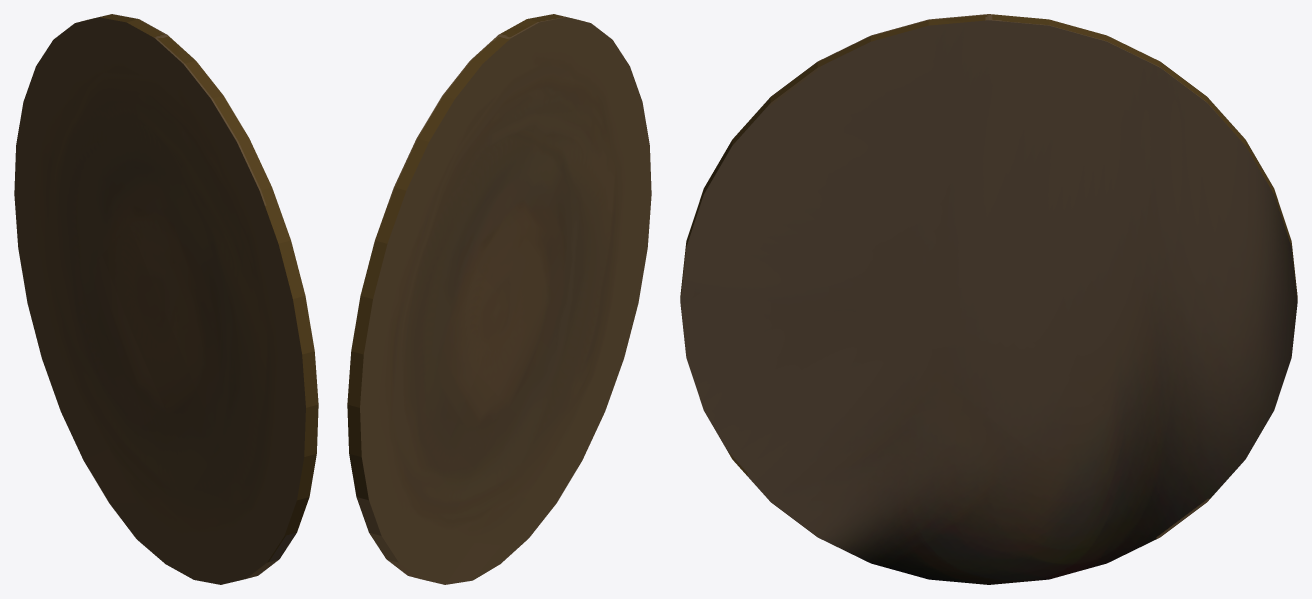
File: wheel.fbx
3 views of the same model, side by side, from view 1: azimuth 30°, elevation 25°; view 2: azimuth 150°, elevation 25°; view 3: azimuth 270°, elevation 25° (orthographic). The views are drawn at different scales.
Parts seen in each view (by area): view 1: Cylinder; view 2: Cylinder; view 3: Cylinder.
Boxes of the visible parts, x1,y1,x2,y2 form: Cylinder: (14, 14, 318, 584); Cylinder: (347, 14, 651, 584); Cylinder: (680, 14, 1297, 584).
Bounding box in the file's own units: 9.2 × 200 × 200.
